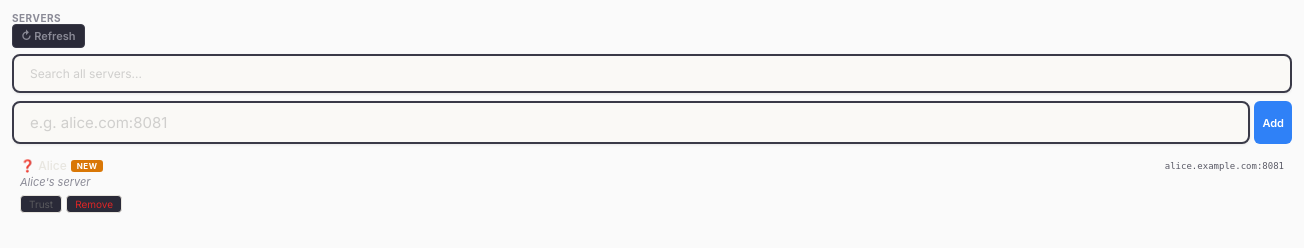
Test: ServerDirectoryPanel › shows error when trust update fails
What coordinates should you click on to do the following:
click the button "Trust"
I would click on:
 (41, 204)
Its box is [20, 195, 62, 213].
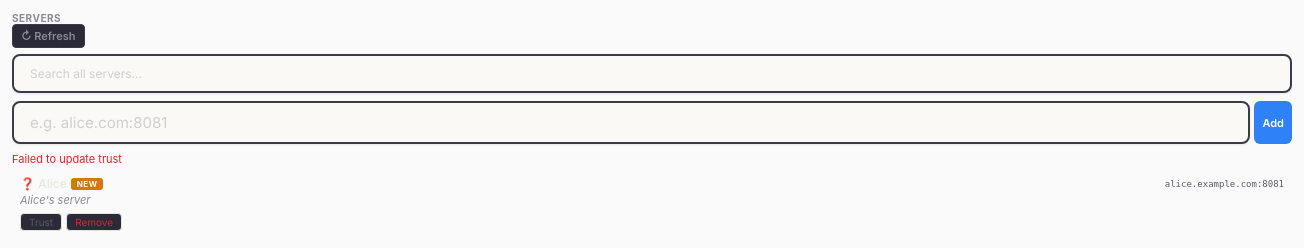
Expected: the text "Failed to update trust" is shown, [12, 152, 122, 166]
